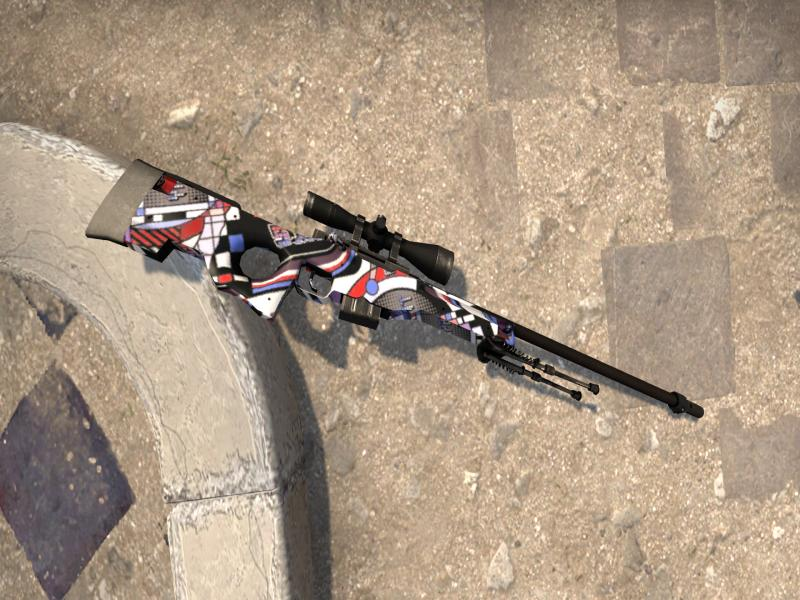AWP: (85, 159, 704, 417)
